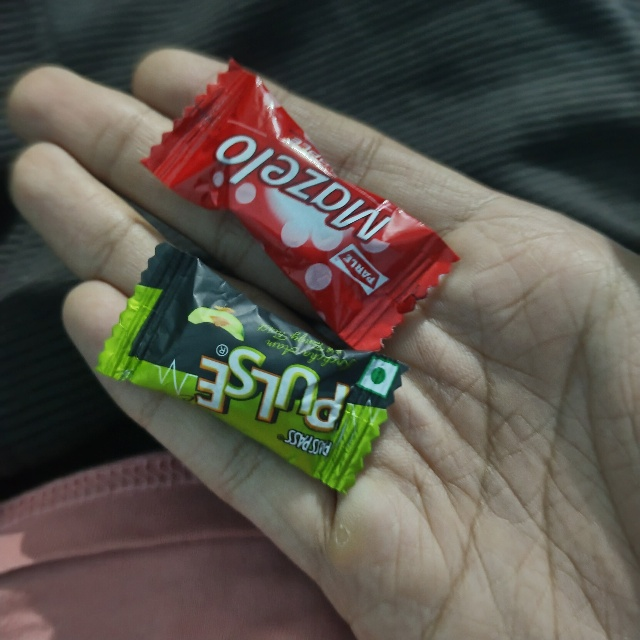Mazelo: (226, 56, 536, 193)
Pulse: (158, 236, 447, 374)
